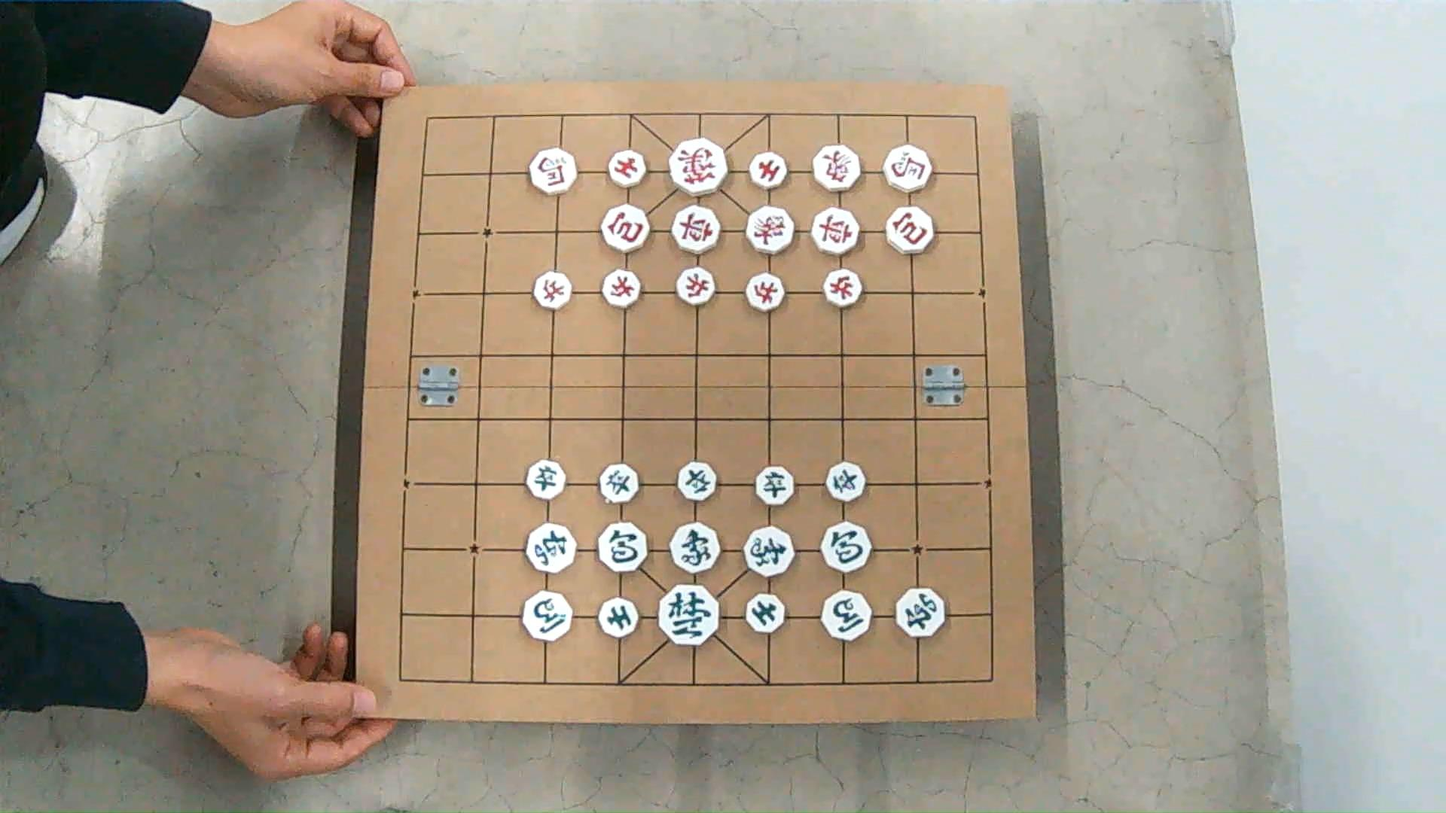cha_green: (525, 523, 575, 573), (895, 588, 944, 637)
cha_red: (812, 208, 859, 255), (672, 206, 718, 254)
jol_green: (600, 464, 639, 503), (826, 462, 865, 501), (527, 461, 565, 500), (678, 462, 716, 501), (755, 467, 793, 505)
jol_red: (824, 269, 862, 307), (602, 269, 640, 307), (677, 267, 714, 305), (533, 272, 571, 309), (747, 273, 783, 311)
ma_green: (822, 591, 871, 640), (523, 591, 571, 641)
ma_red: (884, 145, 932, 191), (529, 148, 575, 195)
po_green: (597, 522, 646, 572), (822, 522, 871, 571)
po_red: (886, 207, 934, 254), (601, 205, 648, 252)
sa_green: (598, 598, 637, 638), (746, 594, 783, 632)
sa_red: (608, 150, 647, 187), (749, 152, 787, 188)
sang_green: (670, 522, 719, 572), (744, 527, 792, 577)
sang_red: (746, 206, 793, 254), (813, 145, 860, 191)
wang_green: (659, 584, 718, 645)
wang_red: (669, 139, 726, 195)
